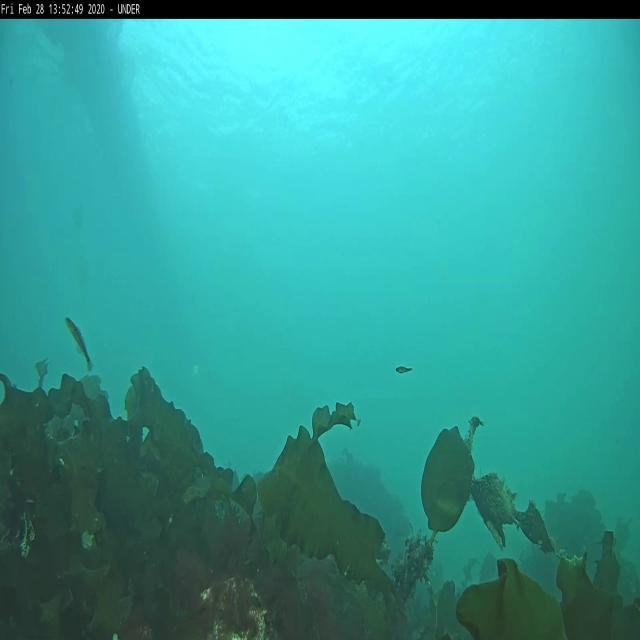fish: (64, 316, 92, 374), (394, 363, 412, 375)
